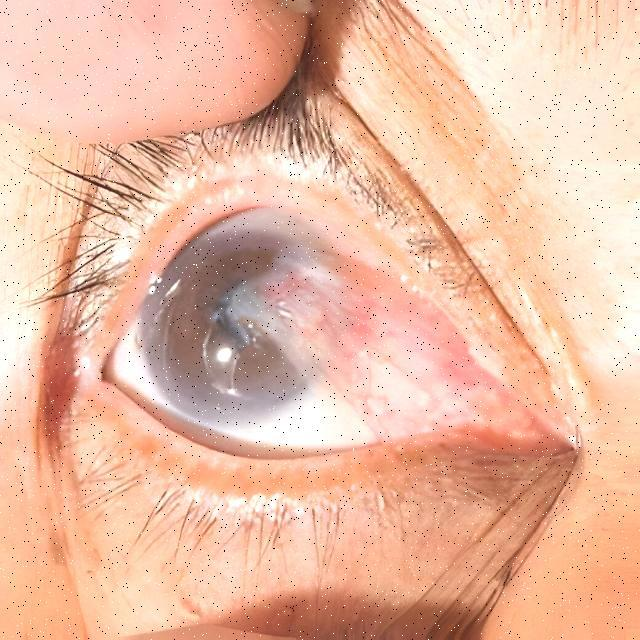Pterygium: (247, 246, 543, 449)
